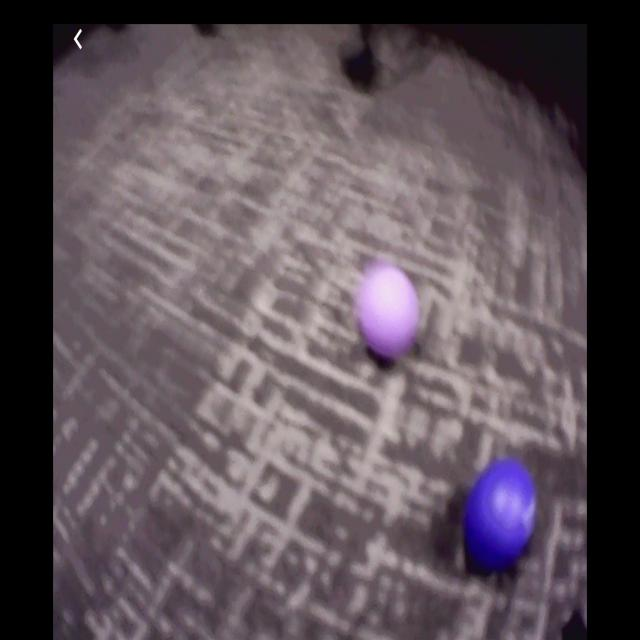ball: (467, 463, 535, 567), (363, 273, 417, 364)
